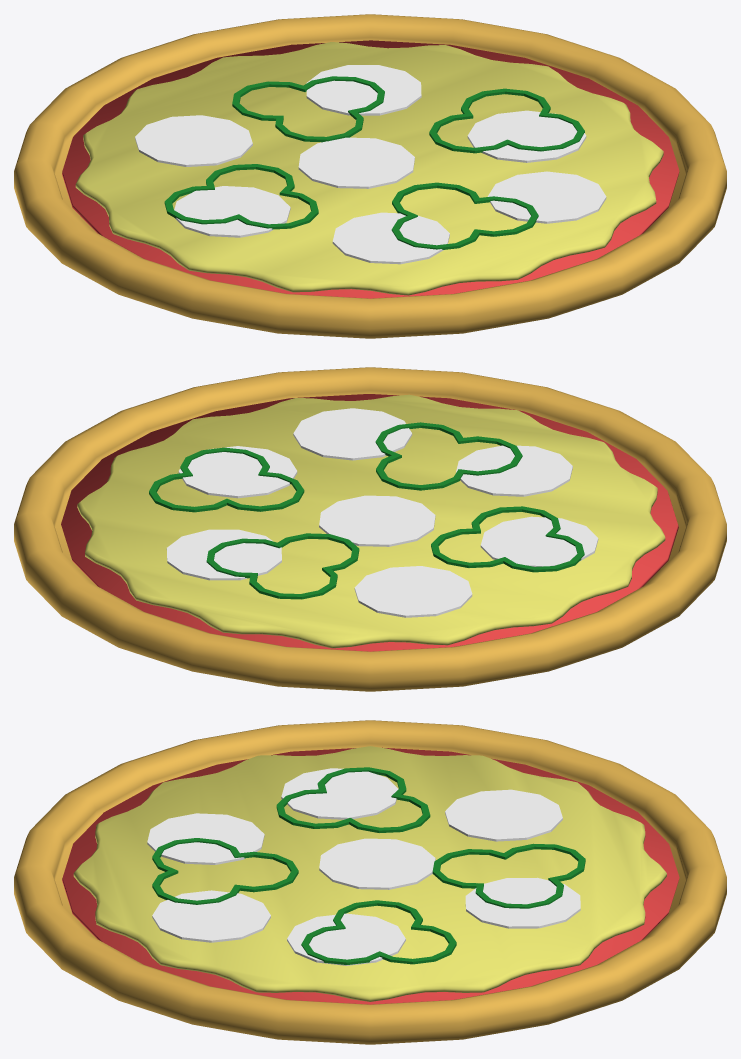
The model's file is pizza.glb.
The picture shows the model from 3 angles, top to bottom: view 1: azimuth 30°, elevation 25°; view 2: azimuth 150°, elevation 25°; view 3: azimuth 270°, elevation 25°; orthographic projection.
Visible parts, largest first — view 1: cheese, pizza, tomatosauce, salami.7, salami.2, salami.5, salami.4, salami.3, salami.1, salami.6, bellpepper.3, bellpepper.4 (+2 smaller); view 2: cheese, pizza, tomatosauce, salami.2, salami.7, salami.5, salami.4, salami.1, salami.3, salami.6, bellpepper.1, bellpepper.3 (+2 smaller); view 3: cheese, pizza, tomatosauce, salami.2, salami.7, salami.5, salami.3, salami.4, salami.1, salami.6, bellpepper.2, bellpepper.3 (+2 smaller).
Boxes of the visible parts, box(x1,y1,x2,y2) form: cheese: box(75, 42, 663, 295); pizza: box(14, 14, 726, 338); tomatosauce: box(62, 40, 679, 298); salami.7: box(298, 137, 414, 188); salami.2: box(135, 115, 252, 166); salami.5: box(487, 171, 606, 223); salami.4: box(332, 212, 449, 264); salami.3: box(174, 186, 290, 237); salami.1: box(306, 65, 421, 115); salami.6: box(467, 110, 586, 162); bellpepper.3: box(232, 76, 384, 142); bellpepper.4: box(391, 182, 538, 249); cheese: box(77, 394, 665, 648); pizza: box(14, 367, 726, 691); tomatosauce: box(61, 394, 678, 651); salami.2: box(354, 566, 472, 617); salami.7: box(319, 495, 435, 546); salami.5: box(293, 408, 412, 460); salami.4: box(456, 445, 572, 496); salami.1: box(166, 529, 281, 580); salami.3: box(480, 516, 598, 566); salami.6: box(178, 446, 297, 498); bellpepper.1: box(431, 506, 584, 572); bellpepper.3: box(206, 533, 359, 599); cheese: box(73, 746, 666, 1001); pizza: box(14, 720, 726, 1044); tomatosauce: box(62, 747, 679, 1004); salami.2: box(445, 789, 562, 841); salami.7: box(319, 838, 435, 889); salami.5: box(152, 890, 270, 942); salami.3: box(281, 768, 398, 819); salami.4: box(147, 813, 264, 864); salami.1: box(465, 877, 580, 928); salami.6: box(287, 913, 405, 965); bellpepper.2: box(301, 900, 456, 964); bellpepper.3: box(432, 843, 585, 908).
Size of the model in its own units: 0.48 by 0.0209 by 0.48.
